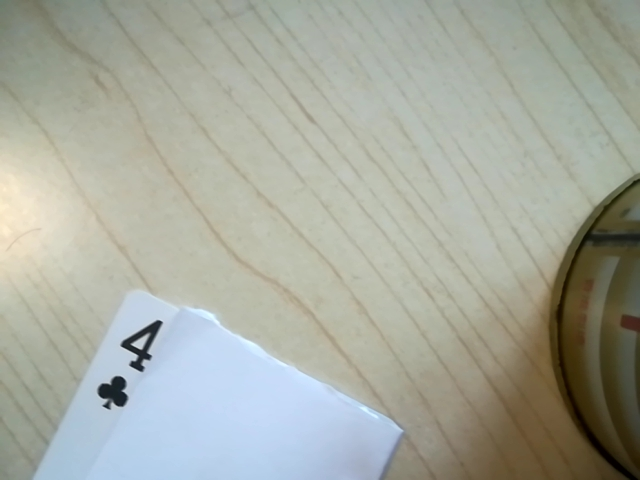mh 4: (89, 311, 172, 418)
